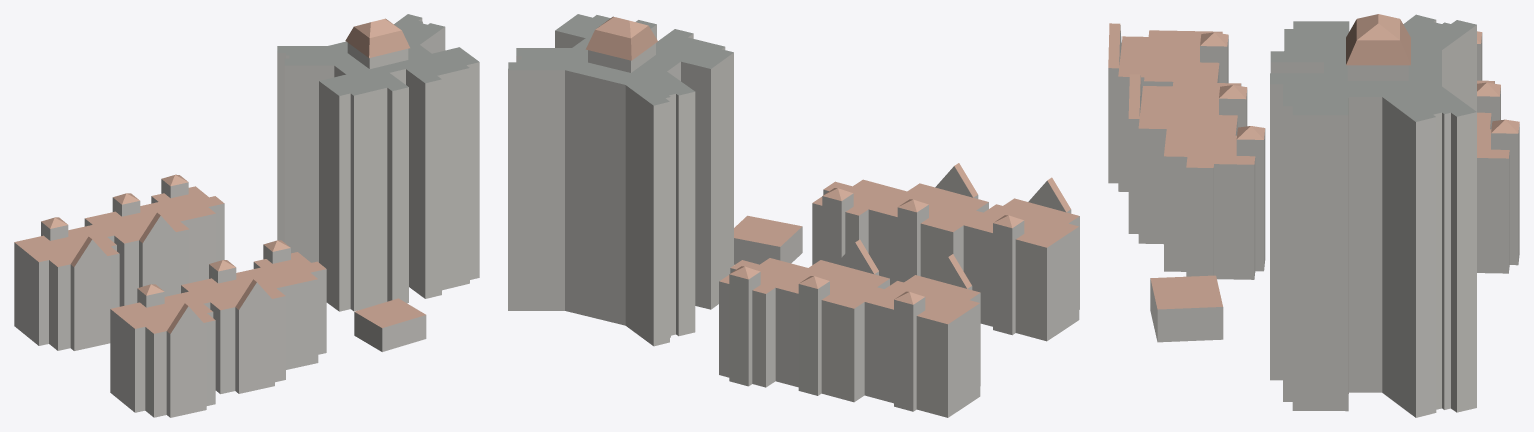
File: gridID_20.dae
3 renders of one model, left to right at view 1: azimuth 30°, elevation 25°; view 2: azimuth 150°, elevation 25°; view 3: azimuth 270°, elevation 25°, orthographic. The views are drawn at different scales.
Parts seen in each view (by area): view 1: model_gridID_20_w399692311, model_gridID_20_w399653892, model_gridID_20_w399653890, model_gridID_20_w399659420; view 2: model_gridID_20_w399692311, model_gridID_20_w399653890, model_gridID_20_w399653892, model_gridID_20_w399659420; view 3: model_gridID_20_w399692311, model_gridID_20_w399653892, model_gridID_20_w399653890, model_gridID_20_w399659420.
Part boxes in pixels (left/top/right/bottom): model_gridID_20_w399692311: left=277, top=14, right=479, bottom=311; model_gridID_20_w399653892: left=110, top=240, right=326, bottom=417; model_gridID_20_w399653890: left=14, top=174, right=224, bottom=350; model_gridID_20_w399659420: left=354, top=298, right=426, bottom=351; model_gridID_20_w399692311: left=508, top=14, right=733, bottom=346; model_gridID_20_w399653890: left=719, top=239, right=980, bottom=417; model_gridID_20_w399653892: left=812, top=163, right=1079, bottom=341; model_gridID_20_w399659420: left=734, top=215, right=802, bottom=264; model_gridID_20_w399692311: left=1270, top=14, right=1476, bottom=417; model_gridID_20_w399653892: left=1108, top=23, right=1265, bottom=279; model_gridID_20_w399653890: left=1477, top=31, right=1519, bottom=273; model_gridID_20_w399659420: left=1150, top=275, right=1223, bottom=342.
Bounding box in the file's own units: 89.74 × 56.72 × 52.49.
